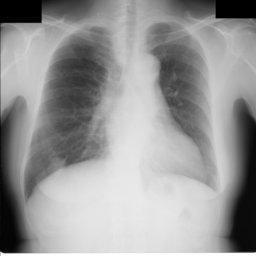left lobe: (148, 24, 217, 188)
right lobe: (26, 27, 113, 196)
